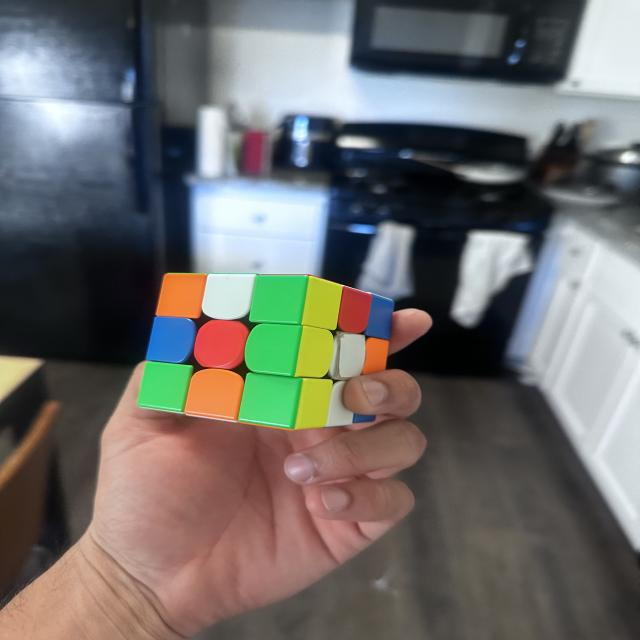sticker: (238, 372, 304, 429), (183, 366, 246, 422), (243, 323, 306, 378), (250, 274, 310, 326), (136, 361, 194, 414), (193, 318, 250, 371), (200, 273, 258, 322), (144, 315, 198, 366), (155, 272, 206, 321)
